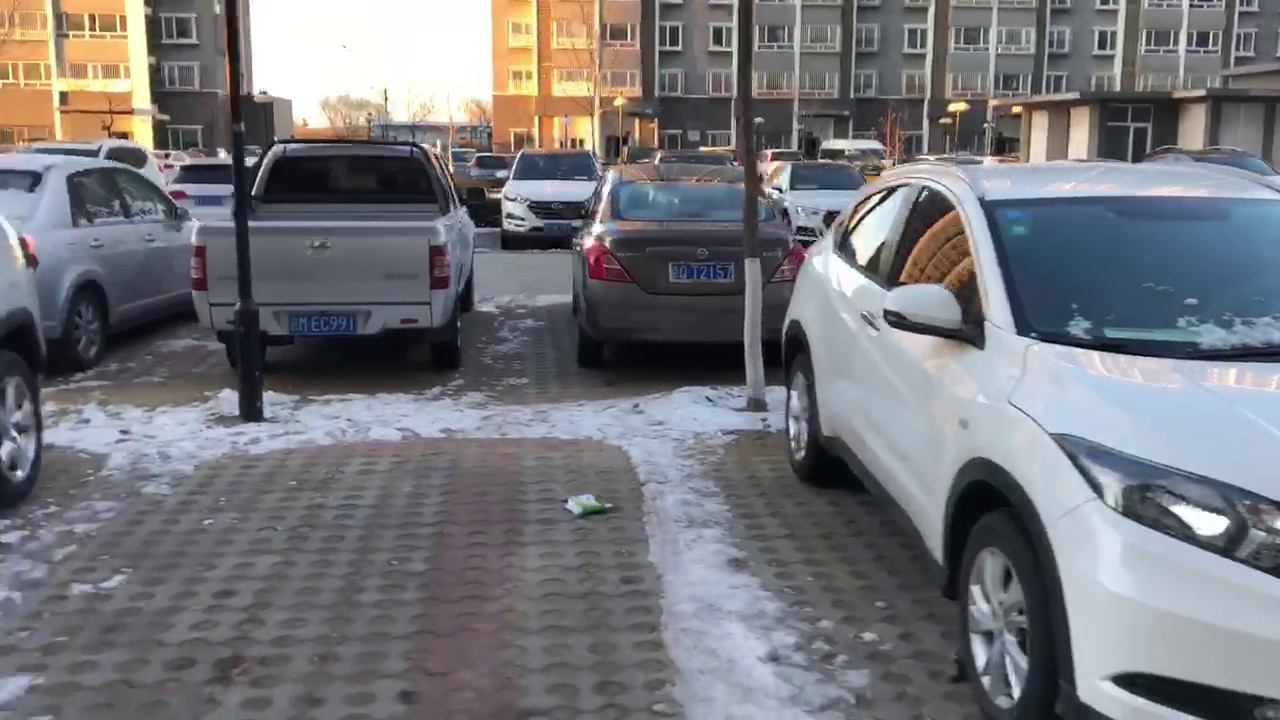plate: (668, 263, 745, 285), (289, 318, 361, 334)
